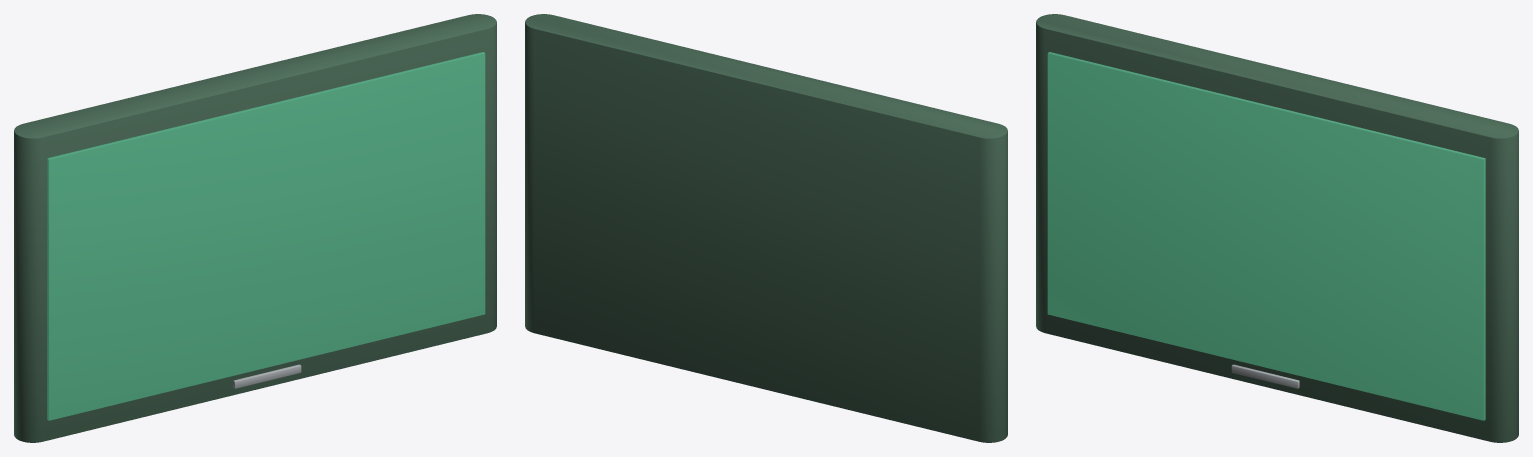
File: display_tv_public.glb
3 views of the same model, side by side, from view 1: azimuth 30°, elevation 25°; view 2: azimuth 150°, elevation 25°; view 3: azimuth 330°, elevation 25° (orthographic).
Parts seen in each view (by area): view 1: DisplayTV_Screen, DisplayTV_Back, DisplayTV_CommercialBadge; view 2: DisplayTV_Back; view 3: DisplayTV_Screen, DisplayTV_Back, DisplayTV_CommercialBadge.
Part boxes in pixels (x1=…): DisplayTV_Screen: x1=47, y1=52, x2=485, y2=420; DisplayTV_Back: x1=14, y1=14, x2=496, y2=442; DisplayTV_CommercialBadge: x1=233, y1=364, x2=301, y2=388; DisplayTV_Back: x1=525, y1=14, x2=1007, y2=442; DisplayTV_Screen: x1=1047, y1=52, x2=1485, y2=420; DisplayTV_Back: x1=1036, y1=14, x2=1518, y2=442; DisplayTV_CommercialBadge: x1=1231, y1=364, x2=1299, y2=388.
Size of what is drawn, in the model's own units: 1.05 by 0.64 by 0.085.
